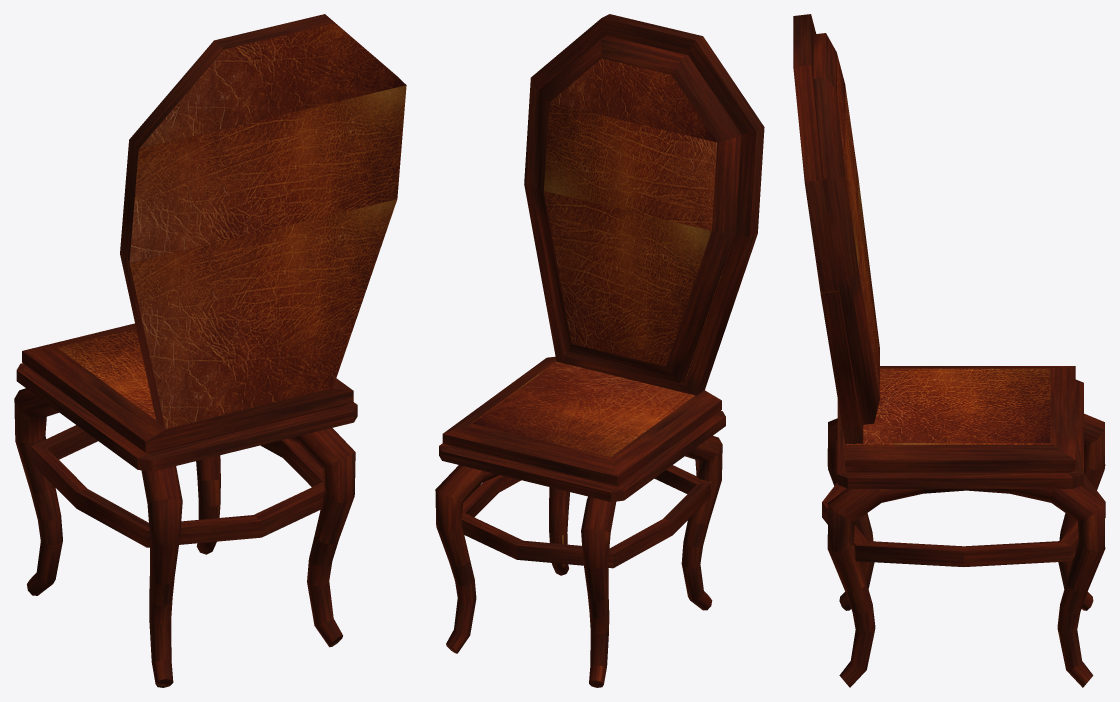
The model's file is krzesloskorzane1.fbx.
The picture shows the model from 3 angles, left to right: view 1: azimuth 30°, elevation 25°; view 2: azimuth 150°, elevation 25°; view 3: azimuth 270°, elevation 25°; orthographic projection. The views are drawn at different scales.
Parts seen in each view (by area): view 1: Cylinder001; view 2: Cylinder001; view 3: Cylinder001.
Boxes of the visible parts, left/top/right/bottom form: Cylinder001: left=14, top=14, right=406, bottom=687; Cylinder001: left=435, top=14, right=764, bottom=687; Cylinder001: left=793, top=14, right=1105, bottom=687.
Size of the model in its own units: 2.65 by 6.18 by 2.87.
